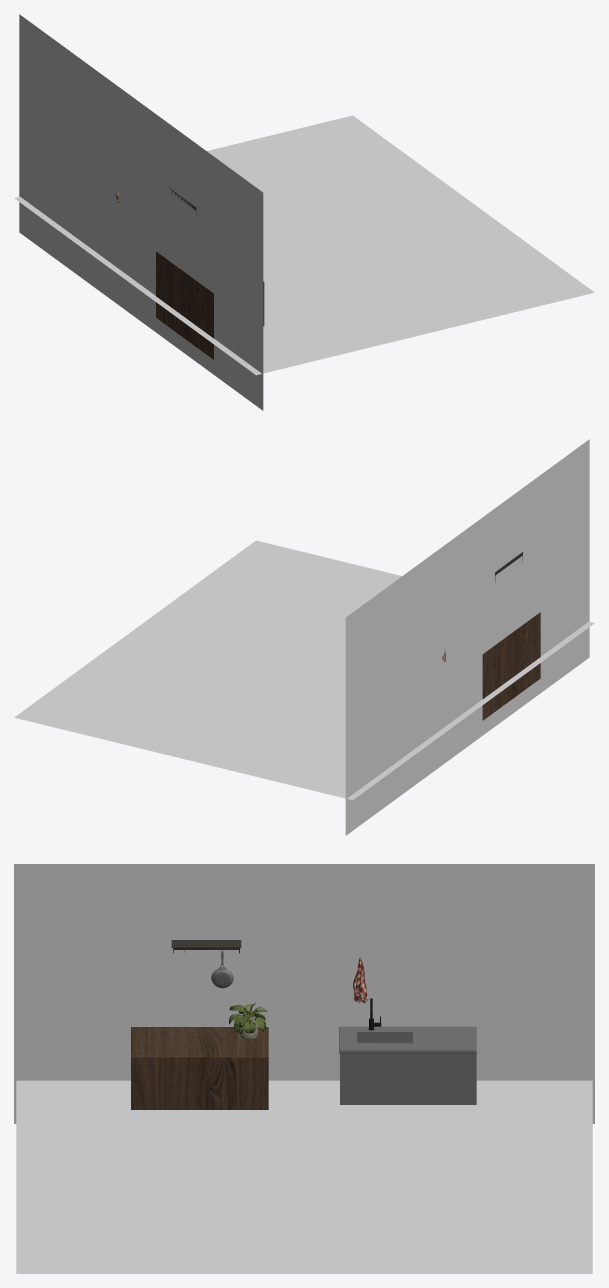
The model's file is additionals_compressed.glb.
3 renders of one model, top to bottom at view 1: azimuth 30°, elevation 25°; view 2: azimuth 150°, elevation 25°; view 3: azimuth 270°, elevation 25°, orthographic. The views are drawn at different scales.
Parts seen in each view (by area): view 1: Wall.001, Wall, BenchLeft; view 2: Wall.001, Wall, BenchLeft; view 3: Wall, Wall.001, BenchLeft, BenchRight, Indoor Table Plant, Cube.010.
Boxes of the visible parts, <box> form: Wall.001: <box>14,115,594,375</box>; Wall: <box>19,14,263,410</box>; BenchLeft: <box>156,251,264,359</box>; Wall.001: <box>14,540,594,800</box>; Wall: <box>345,439,589,835</box>; BenchLeft: <box>482,612,540,720</box>; Wall: <box>14,864,594,1123</box>; Wall.001: <box>16,1080,592,1273</box>; BenchLeft: <box>131,1027,268,1109</box>; BenchRight: <box>339,1026,476,1104</box>; Indoor Table Plant: <box>229,1003,267,1040</box>; Cube.010: <box>171,940,241,948</box>.
Size of the model in its own units: 13.43 by 8.27 by 16.74.
Materials: 13 (4 with a texture image).
